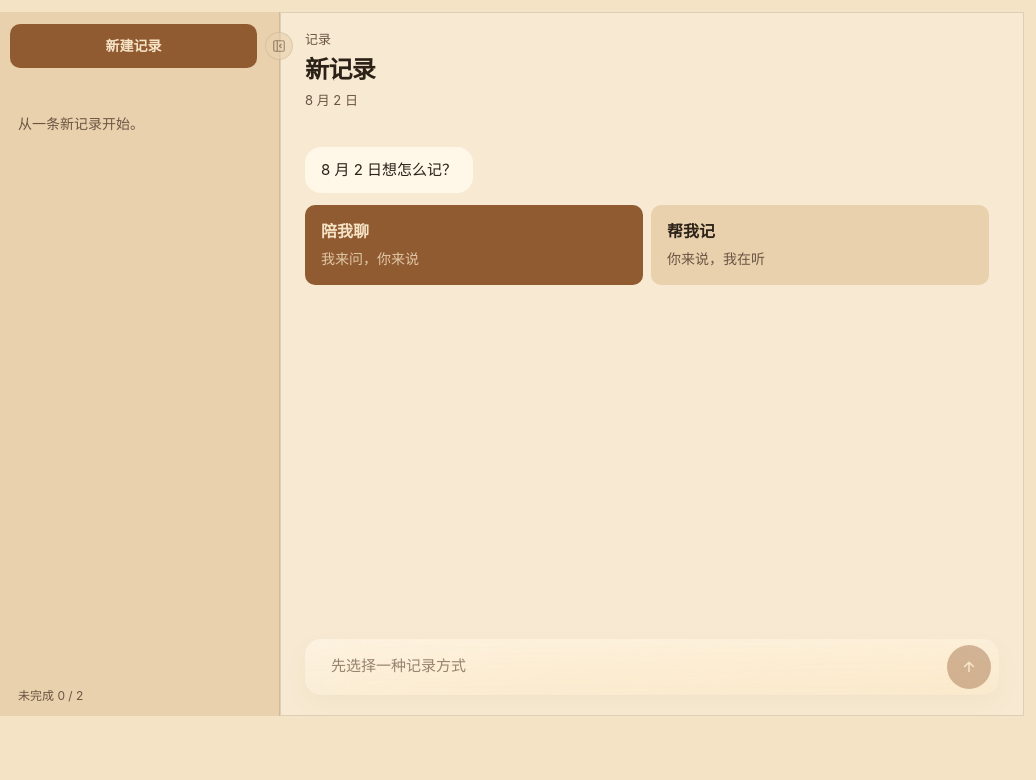
Daily Light 两种记录模式自动化闭环 › chat 从选择模式、可靠保存到完成记录并返回当天
Step 1. Click the button "陪我聊 我来问，你来说" → (345, 231), box [305,205,643,285]
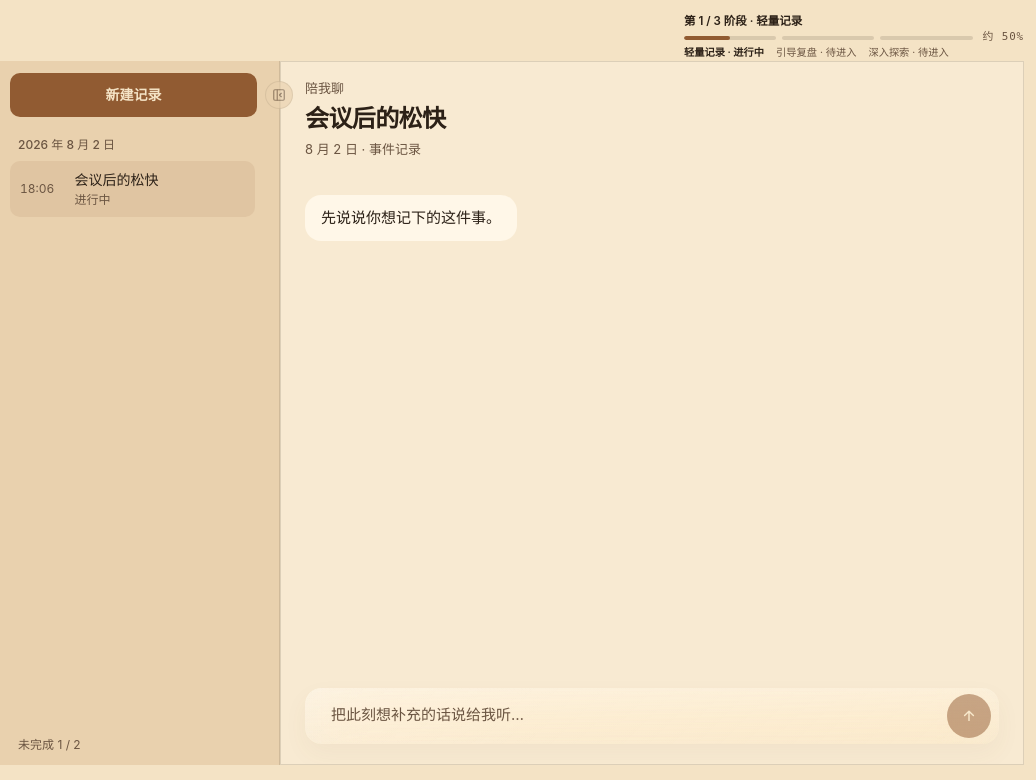
Now the element with test id "event-centered-start-workspace" is gone
Now the text box named "输入当前事件" is enabled
Step 2. Type "会议结束后，我一下放松了。" into the text box named "输入当前事件" → (652, 716), box [315,694,989,738]
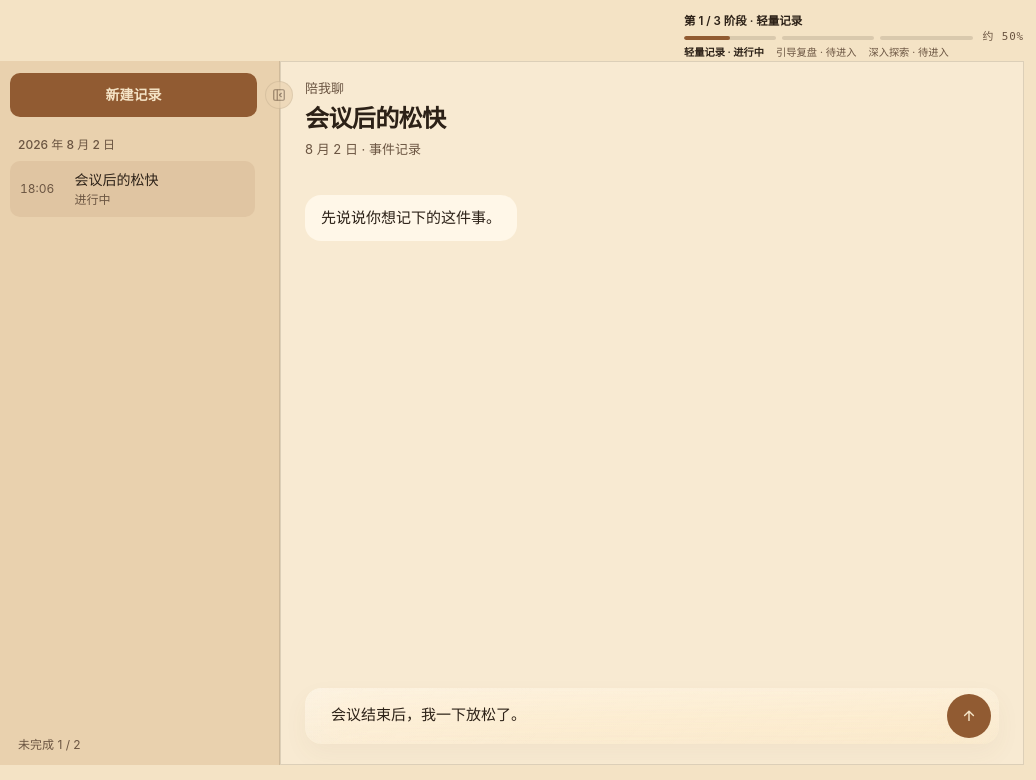
Now the button named "发送" is enabled
Step 3. Click the button named "发送" → (969, 716), box [947,694,991,738]
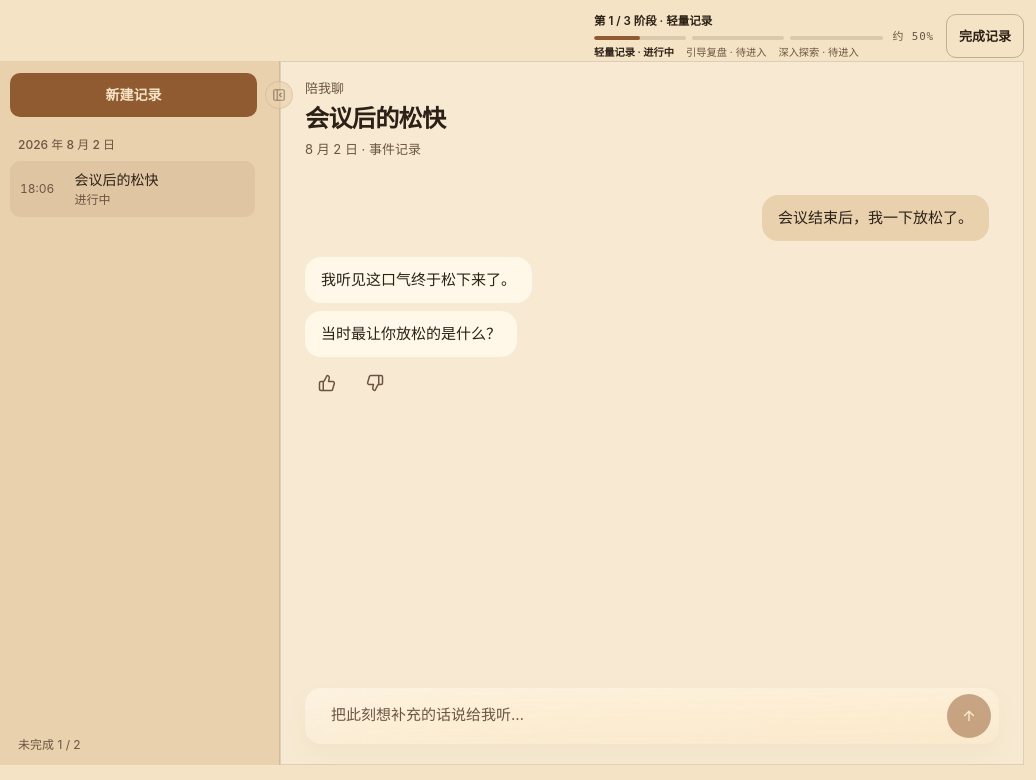
Now the text "会议结束后，我一下放松了。" is shown once, box [778,205,973,231]
Now the text "我听见这口气终于松下来了。" is shown, box [321,267,516,293]
Now the text "当时最让你放松的是什么？" is shown, box [321,321,501,347]
Step 4. Click the button "完成记录" → (985, 36), box [946,14,1024,58]
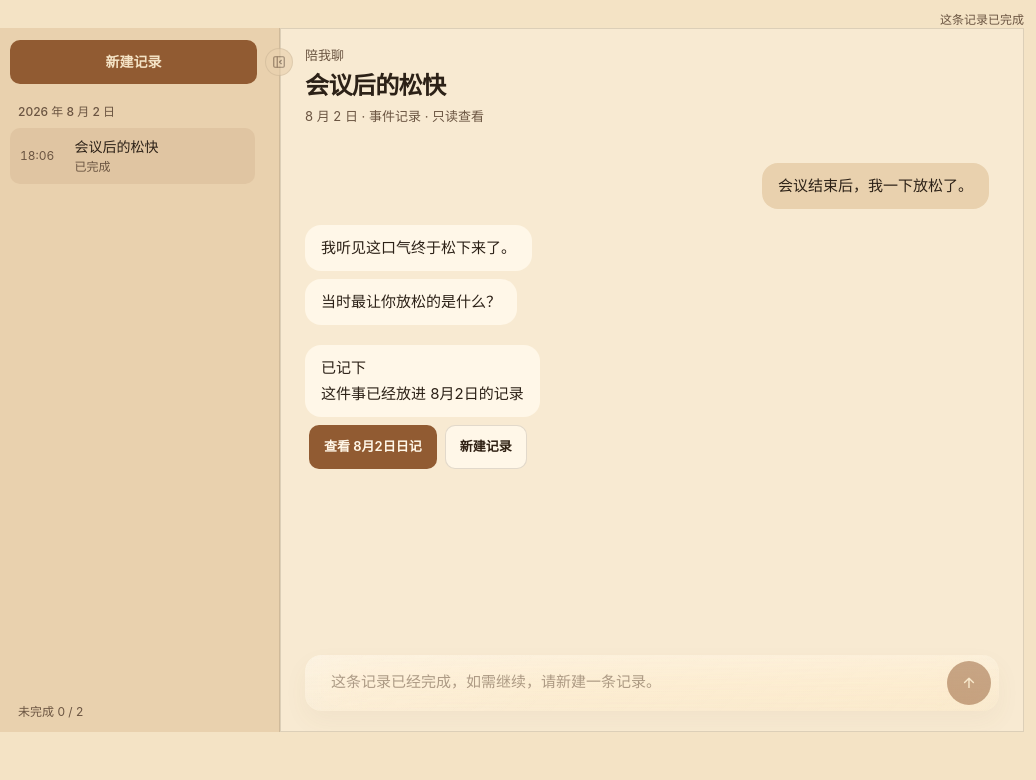
Now the element with test id "event-centered-completion-inline" shows "已记下", box [321,358,524,403]
